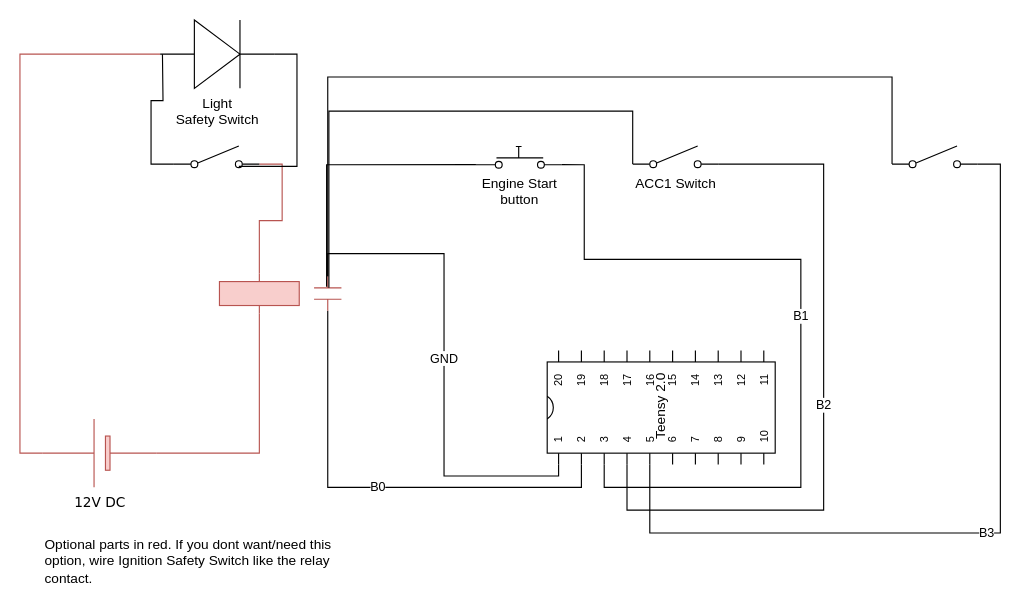
The diagram is 1021 pixels wide and 610 high, and some of its shapes have lost their labels. The box of each missing label's shape, as (x1, y1, x2, y2) in pixels:
12V DC Relay: (218, 272, 299, 314)
ACC2 Switch: (891, 145, 978, 168)
Ignition Safety Switch: (173, 145, 259, 168)
